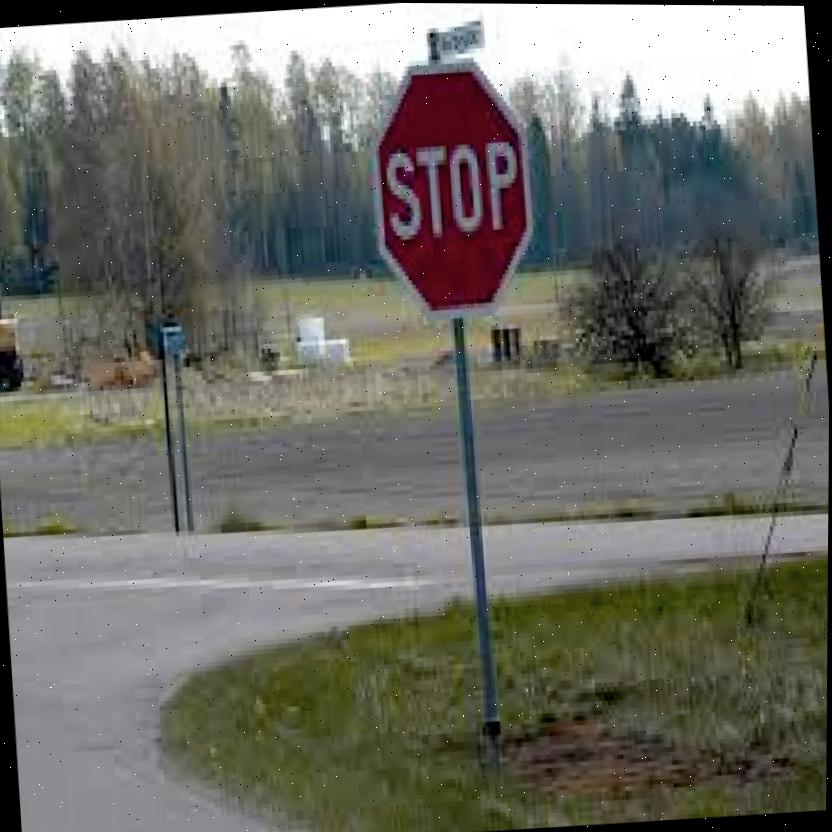Pole: (451, 327, 505, 738), (174, 358, 198, 535)
Sign: (367, 57, 541, 318)
